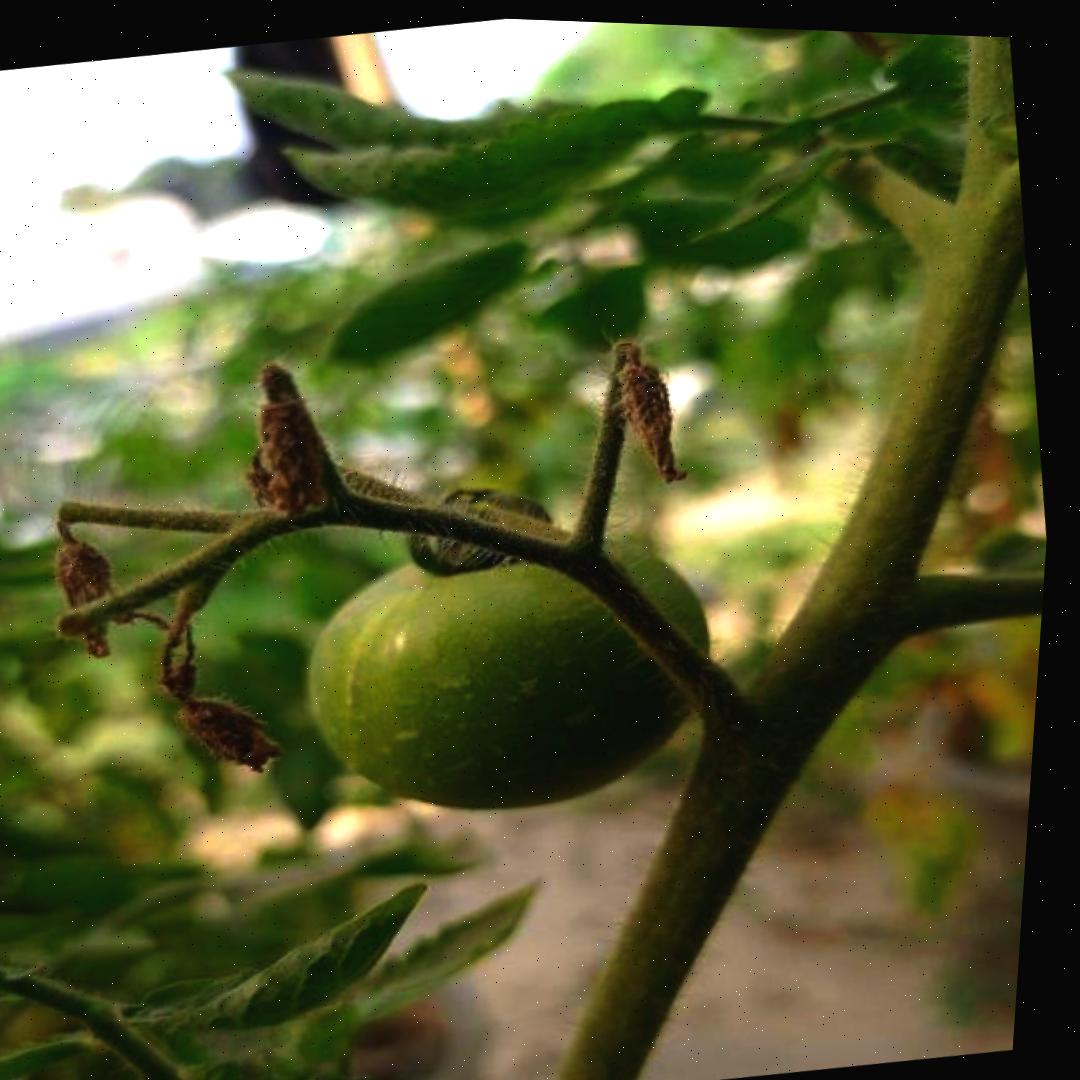mentah: (280, 499, 742, 845)
